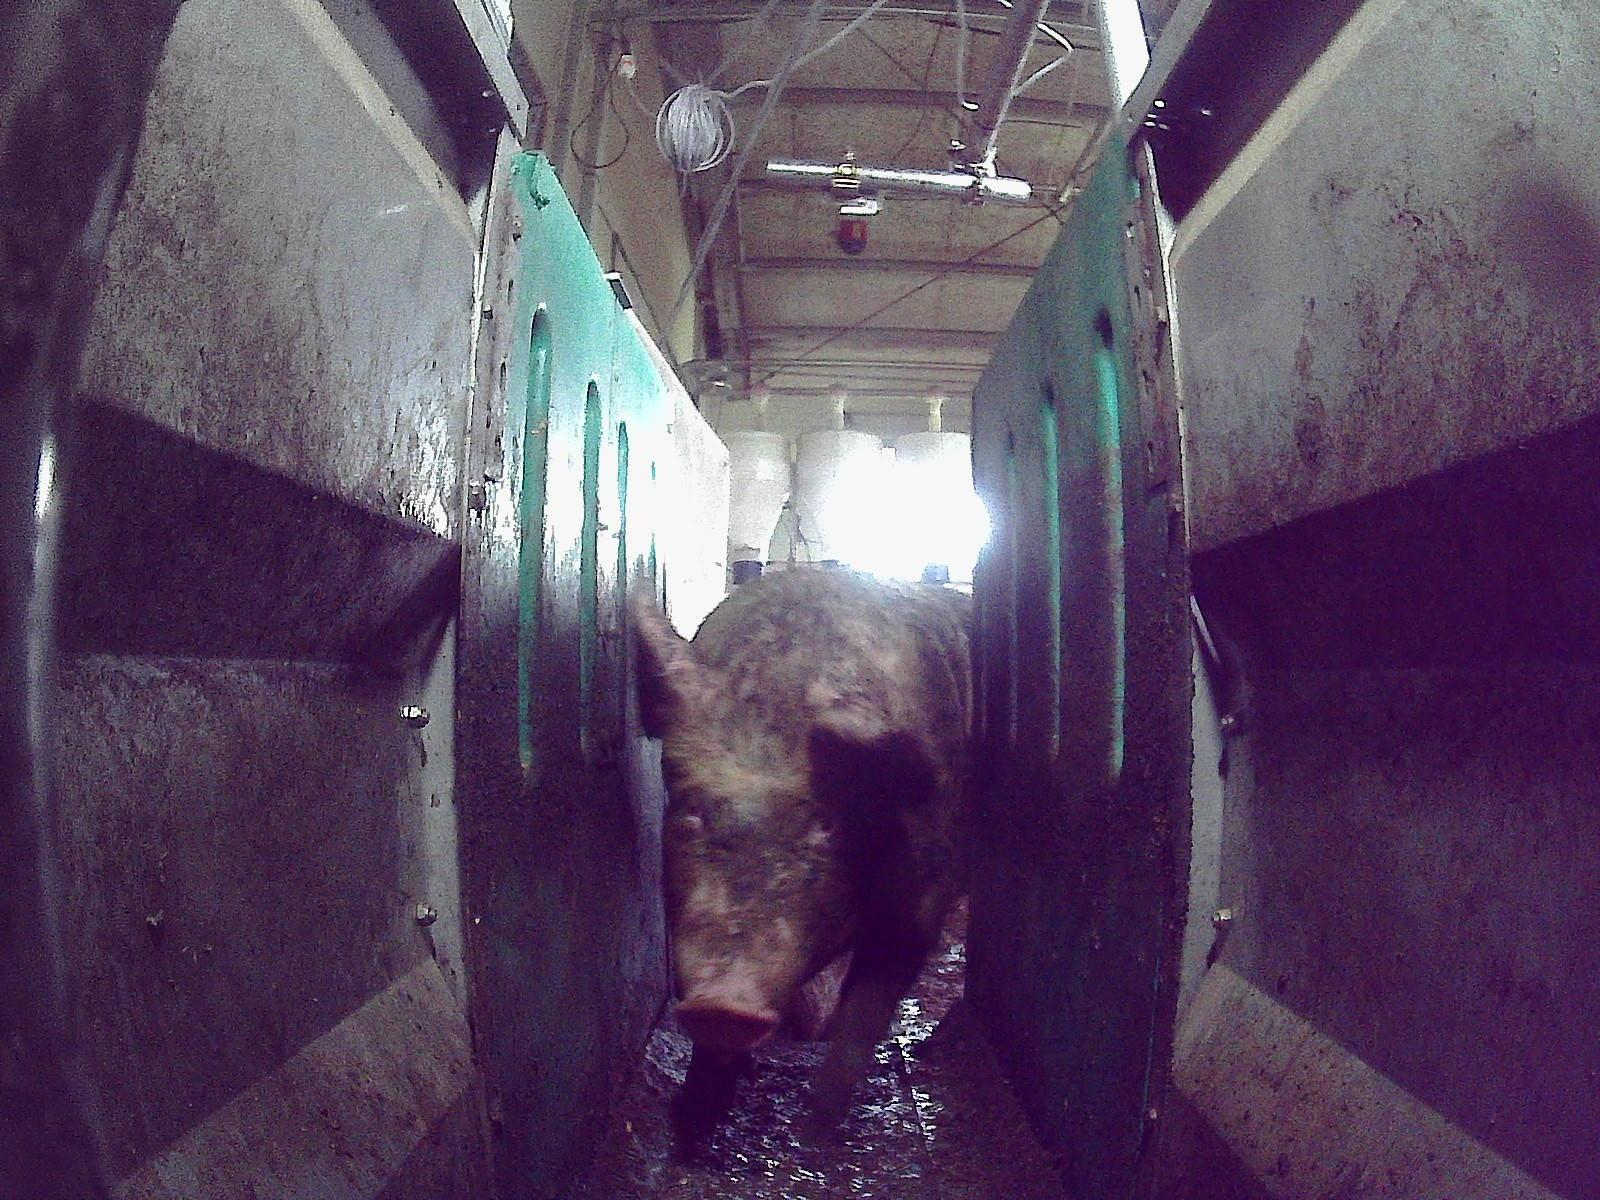Face: (649, 707, 854, 1048)
